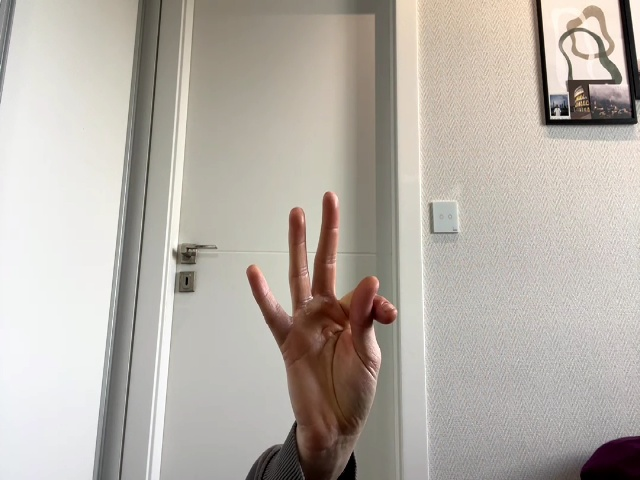T: (247, 191, 397, 425)
